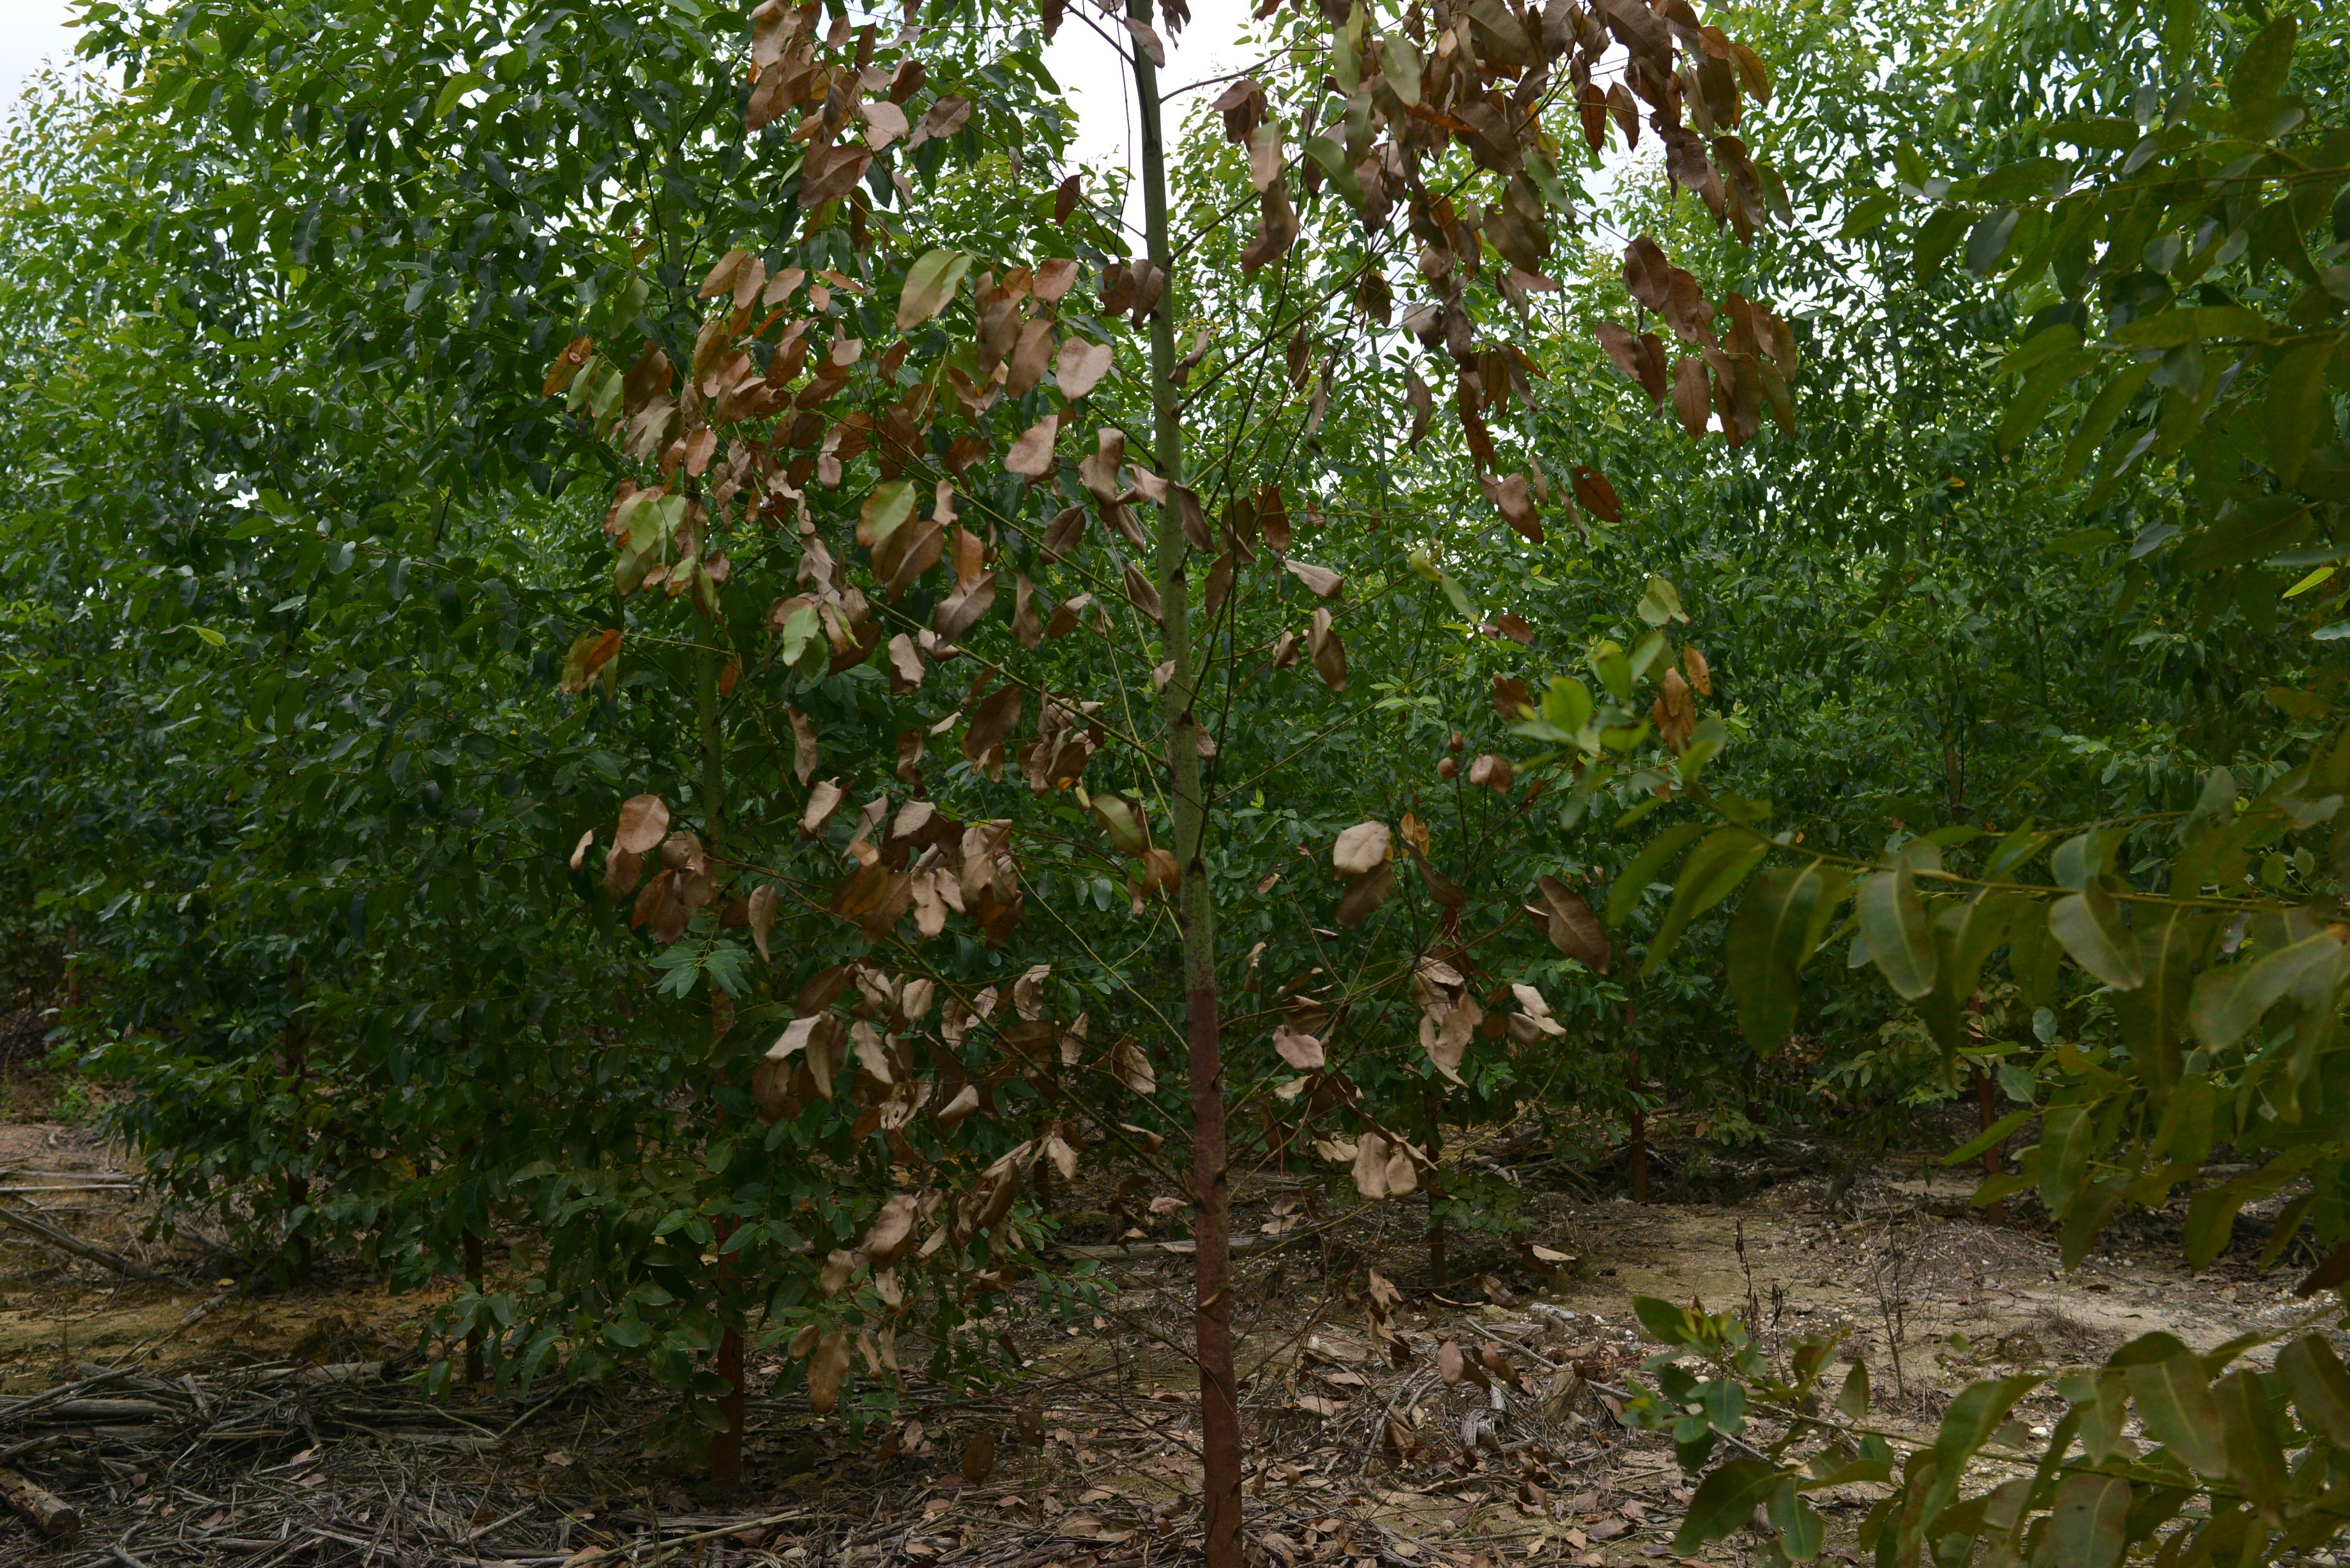Wither Tree Parts: (541, 0, 1815, 1542)
